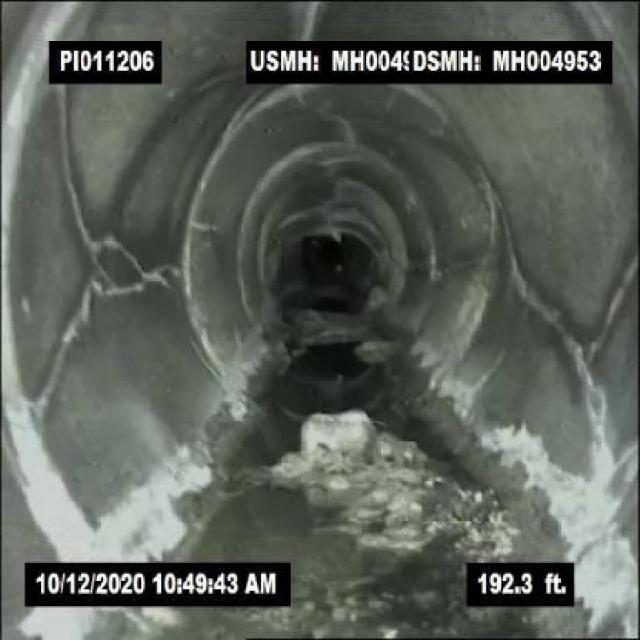Crack: (509, 206, 638, 460), (46, 163, 174, 374)
Debris: (277, 391, 472, 549)
